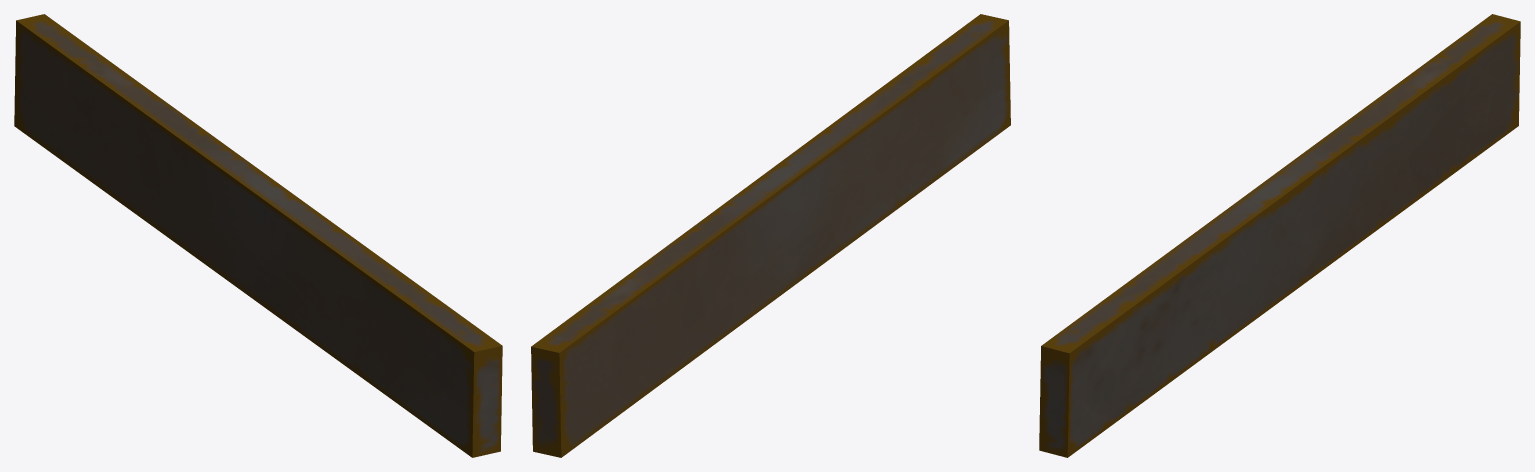
File: MetalSmall.fbx
3 renders of one model, left to right at view 1: azimuth 30°, elevation 25°; view 2: azimuth 150°, elevation 25°; view 3: azimuth 330°, elevation 25°, orthographic.
Visible parts, largest first — view 1: Cube.010; view 2: Cube.010; view 3: Cube.010.
Part boxes in pixels (bbox=[...]): Cube.010: bbox=[14, 14, 502, 457]; Cube.010: bbox=[531, 14, 1010, 457]; Cube.010: bbox=[1039, 14, 1520, 457].
Size of the model in its own units: 12.26 by 37.79 by 292.
1 material, 1 textured.
